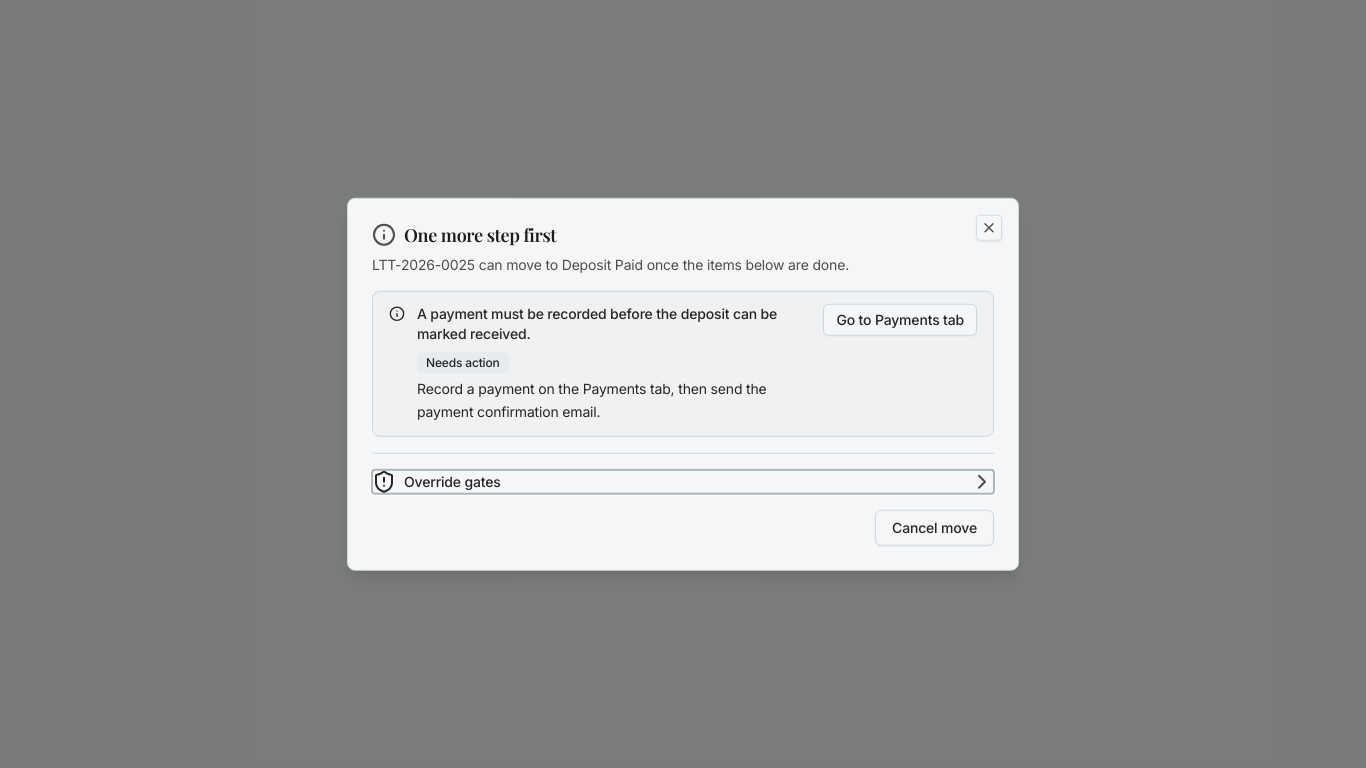
Test: StageTransitionModal override panel › expanding the trigger reveals the reason field and a disabled Force move button
Click the button "Override gates": (452, 481) left=372, top=469, right=994, bottom=493
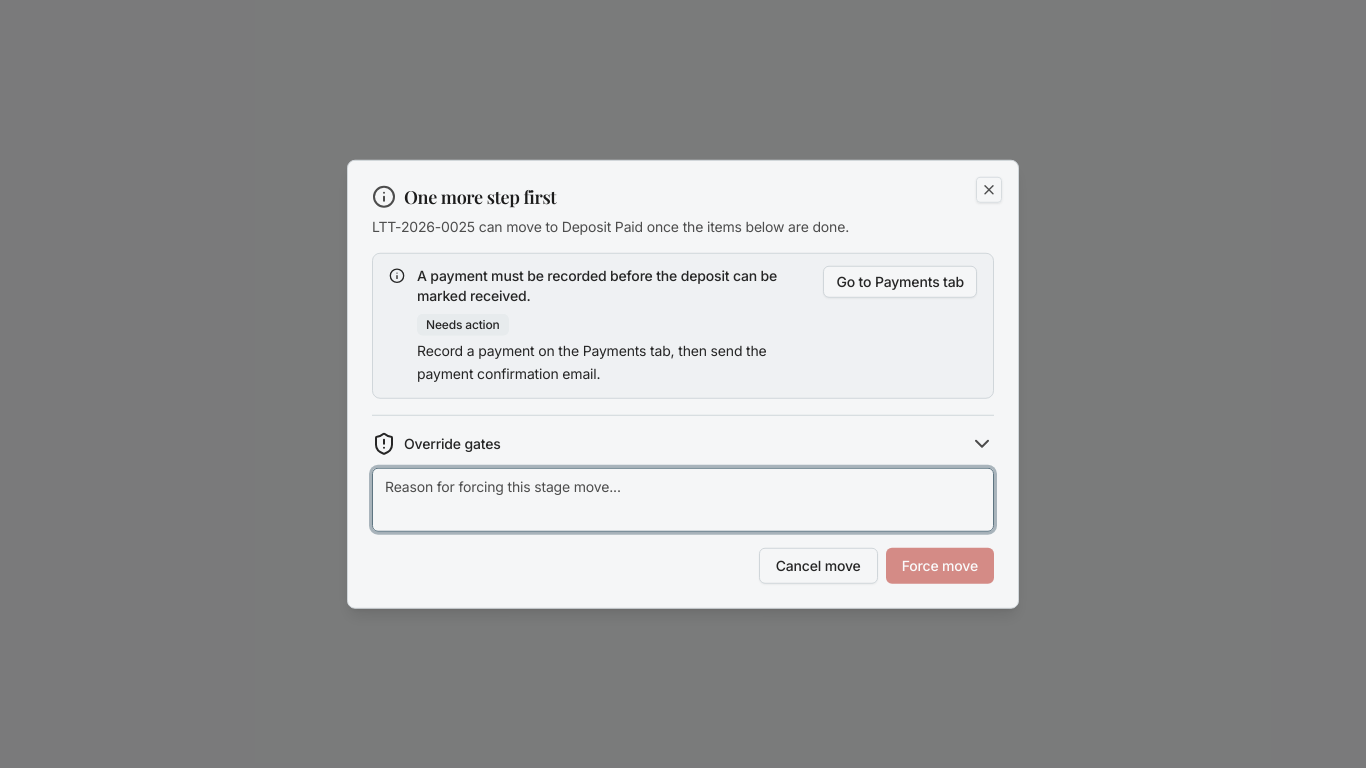
Expected: the text box with placeholder "Reason for forcing this stage move..." is shown, left=372, top=467, right=994, bottom=531
Expected: the button "Force move" is disabled, left=886, top=547, right=994, bottom=583
